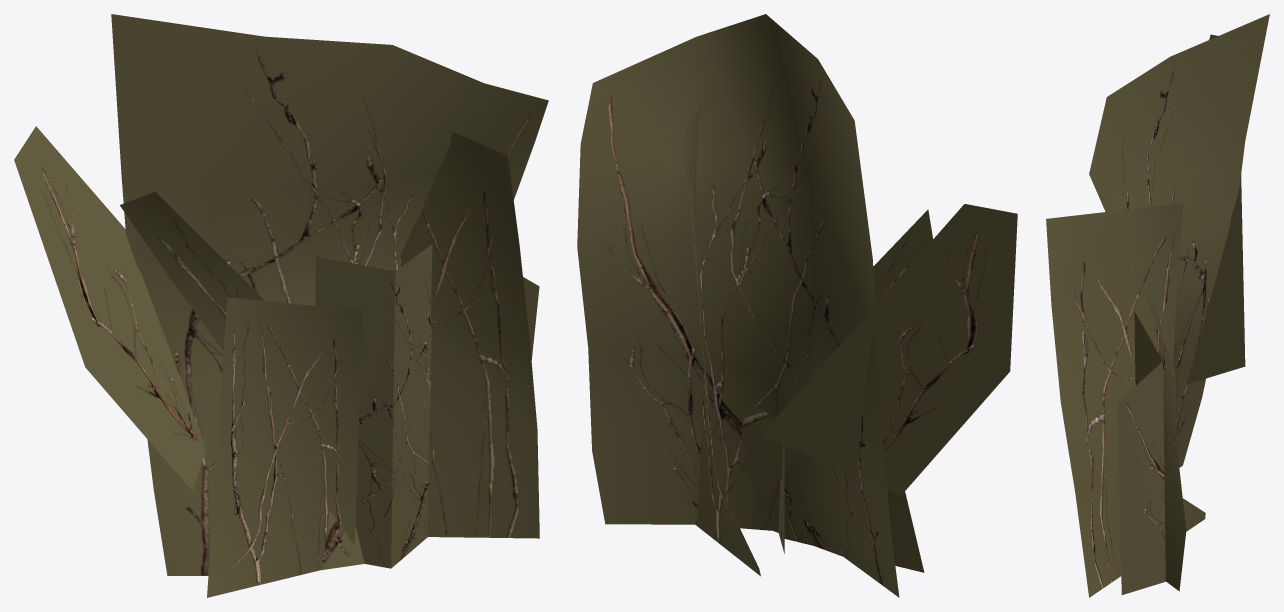
Rendered from ivy18_lod0.fbx.
3 views of the same model, side by side, from view 1: azimuth 30°, elevation 25°; view 2: azimuth 150°, elevation 25°; view 3: azimuth 270°, elevation 25° (orthographic). The views are drawn at different scales.
Parts seen in each view (by area): view 1: Mesh Object; view 2: Mesh Object; view 3: Mesh Object.
Part boxes in pixels (x1,y1,x2,y2): Mesh Object: [14, 14, 548, 597]; Mesh Object: [577, 14, 1017, 597]; Mesh Object: [1046, 14, 1269, 597].
Bounding box in the file's own units: 2.69 × 2.79 × 1.26.
